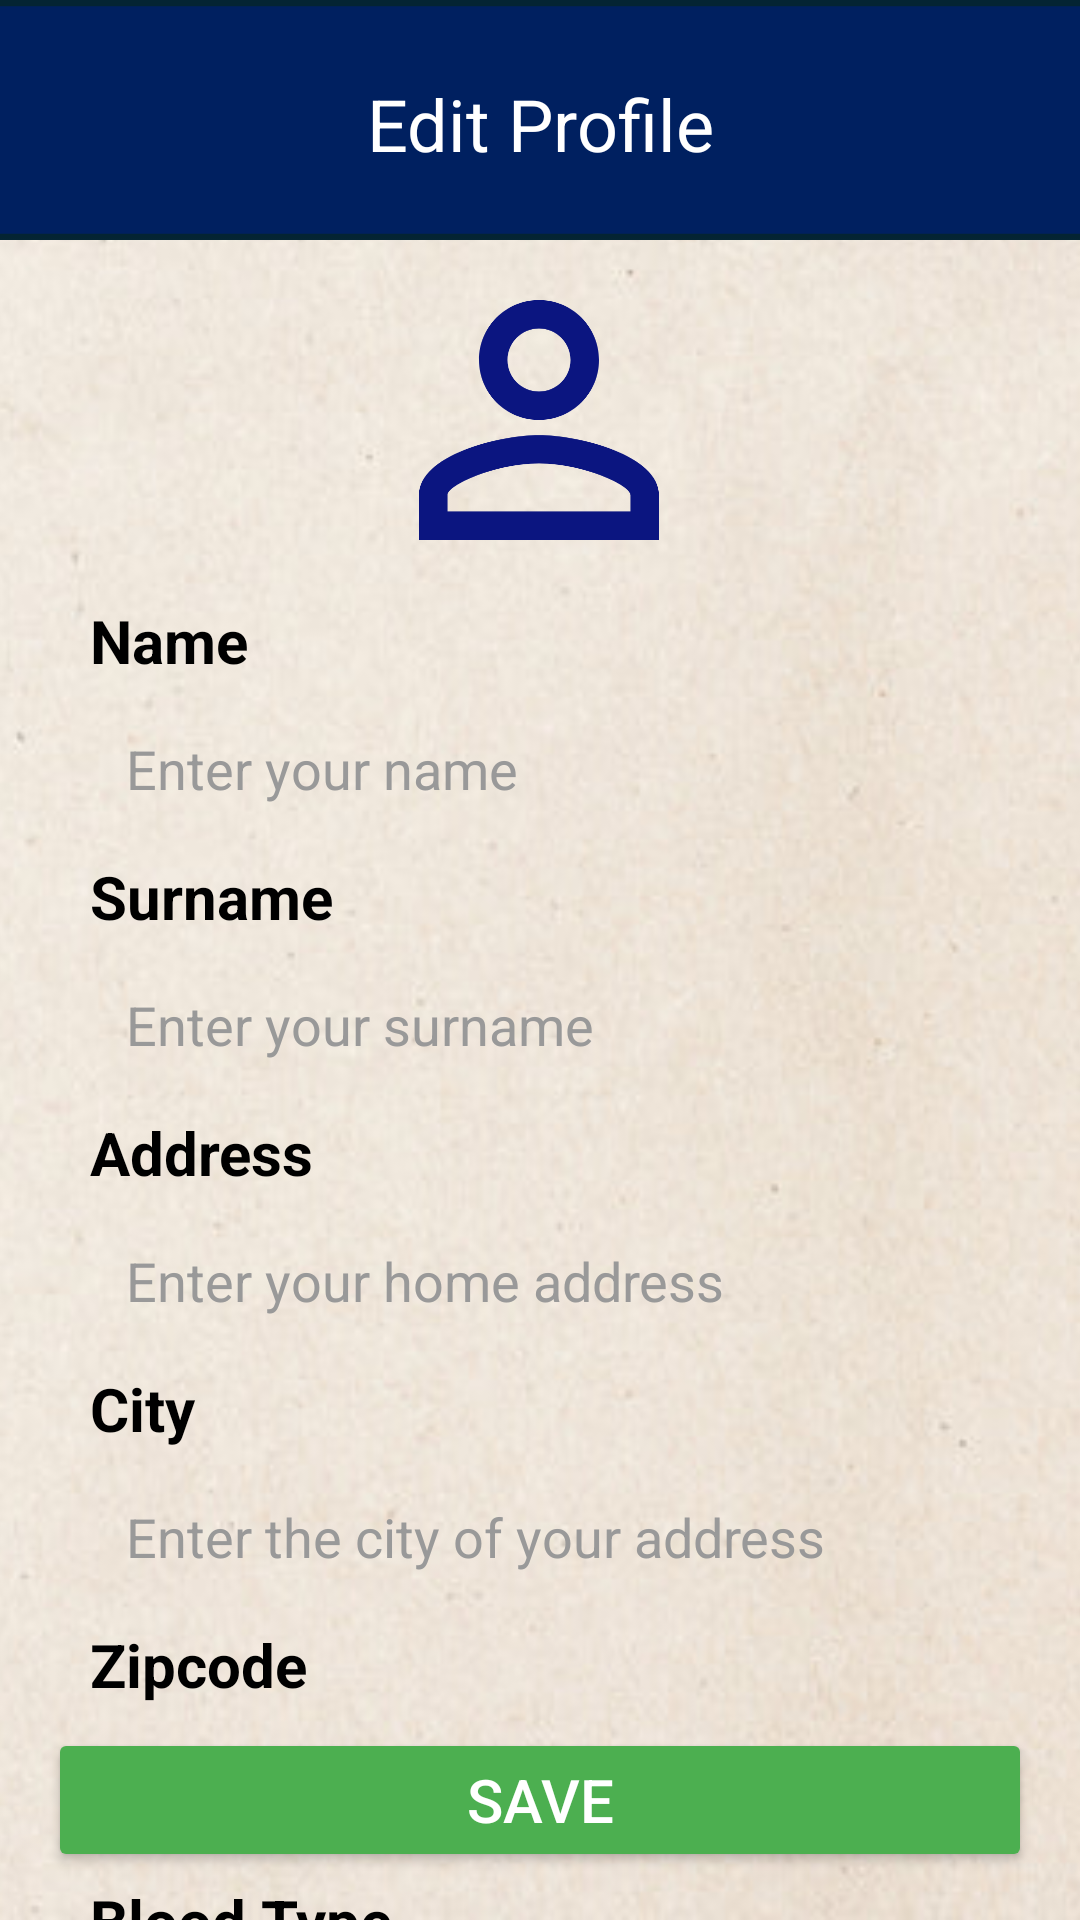

Point at icon controls on the screen. Image size 1080 x 1920, points as point (x, y).
person: point (513, 405)
